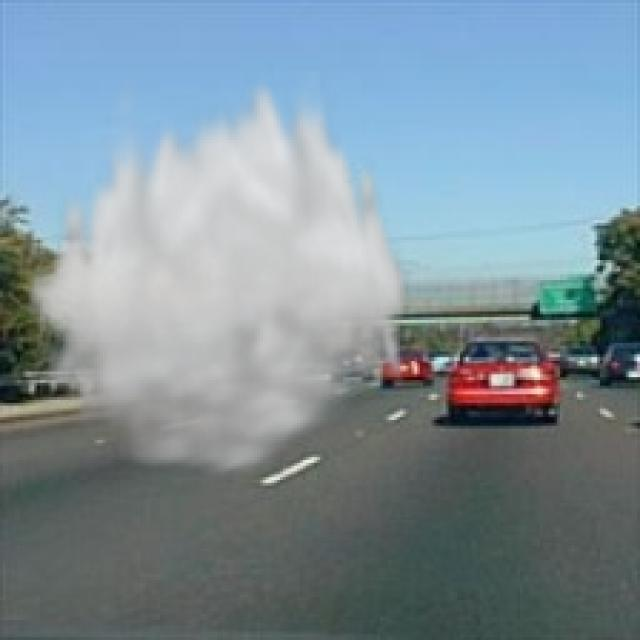smoke: (20, 66, 411, 483)
